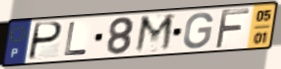8: (105, 16, 135, 57)
F: (213, 8, 251, 51)
G: (181, 11, 215, 51)
L: (63, 21, 89, 58)
M: (133, 12, 177, 55)
P: (26, 21, 64, 62)
